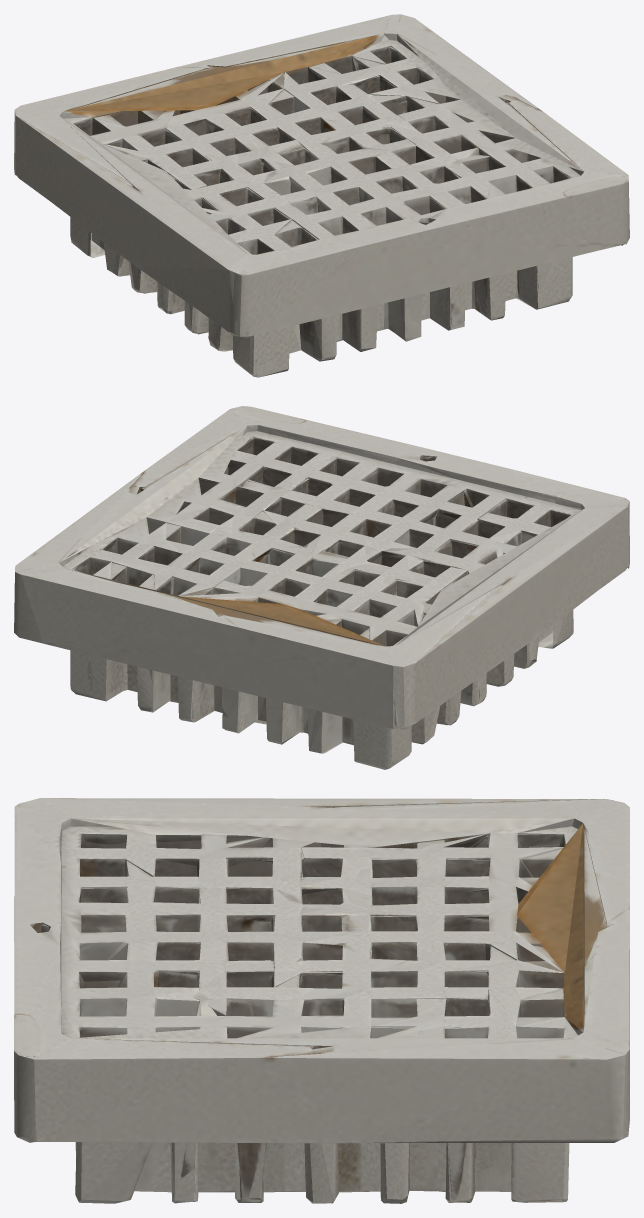
File: griglia_scolo.glb
3 renders of one model, top to bottom at view 1: azimuth 30°, elevation 25°; view 2: azimuth 150°, elevation 25°; view 3: azimuth 270°, elevation 25°, orthographic. The views are drawn at different scales.
Bounding box in the file's own units: 1.9 × 0.5971 × 1.9.
Materials: 1 (1 with a texture image).
